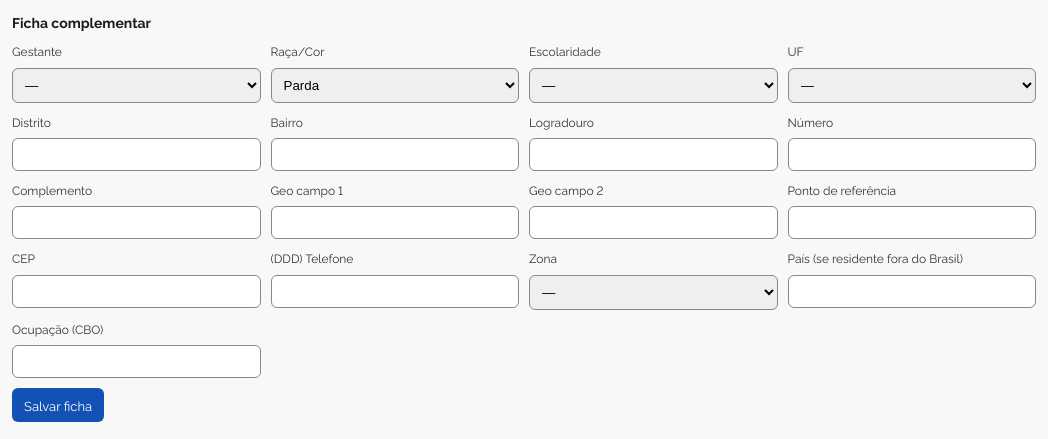
Scenario: NotificationFormSection › depois de salvar, a resposta do api vira a ficha da tela
Step 1. Type "(41) 3333-4444" into the field labelled "(DDD) Telefone" → (395, 291), box [270, 275, 519, 308]
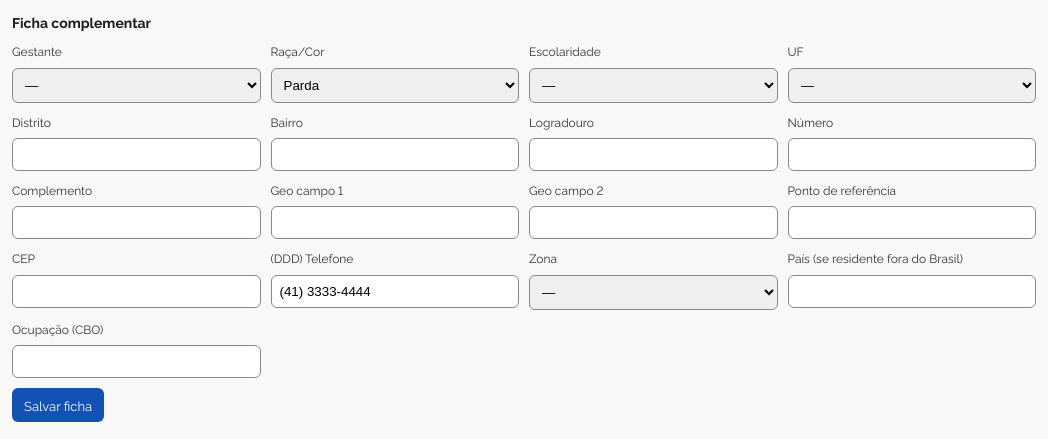
Step 2. Click the button "Salvar ficha" → (58, 405), box [12, 388, 104, 422]
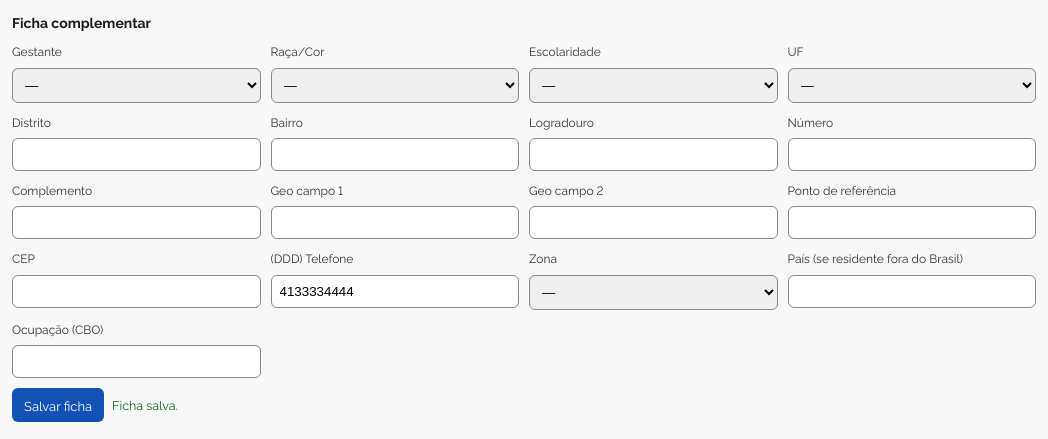
Check: the message "Ficha salva." is shown, box [112, 396, 178, 414]
Check: the field labelled "(DDD) Telefone" holds "4133334444", box [270, 275, 519, 308]
Check: the dropdown labelled "Raça/Cor" shows "—", box [270, 68, 519, 103]
